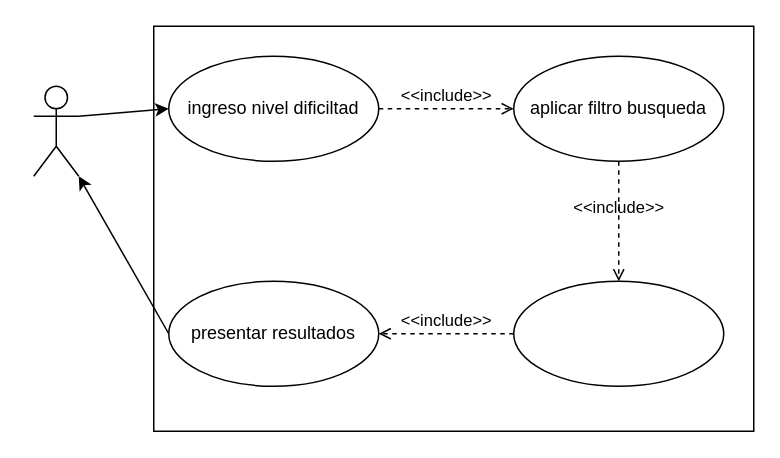
Some shapes in this 780 by 458 pixel diagram are drawn without their labels. Here are the shapes that lost their labels. From the top down, the box of each, then its label:
(32, 85, 79, 176): Usuario
(512, 280, 724, 386): realizar busqueda
